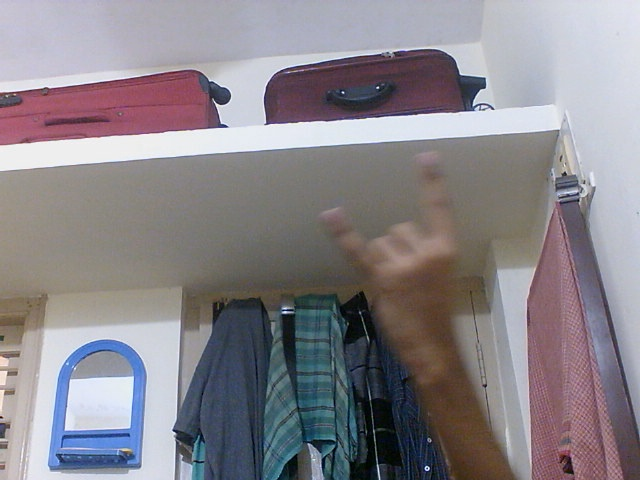hand: (320, 147, 465, 383)
